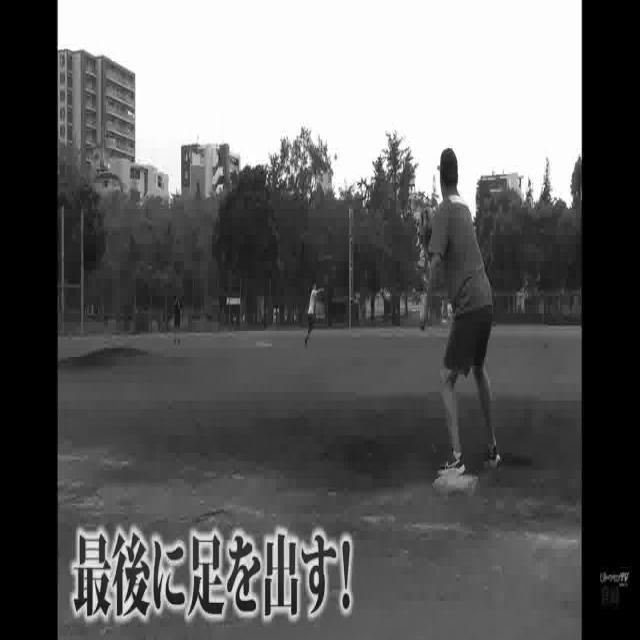base: (432, 473, 478, 496)
baseball: (334, 153, 338, 161)
baseball_glove: (418, 203, 436, 245)
shoe: (478, 444, 501, 475), (438, 454, 466, 478)
